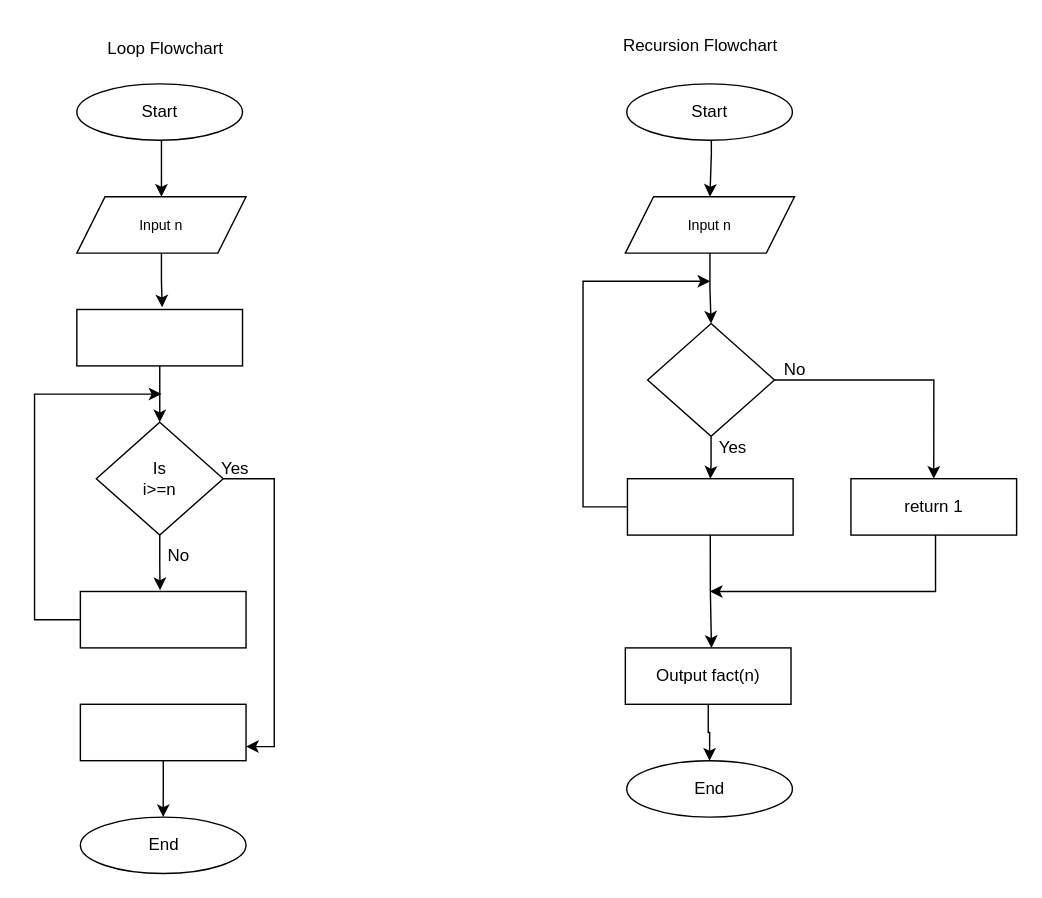
This 1042x898 diagram has some shape labels left out. Here are the shapes that lost their labels. From the top down, the box of each, then its label:
(75, 308, 243, 366): Set i=1, fact=1;
(646, 322, 775, 436): Is i>=1
(626, 477, 793, 535): return fact(n-1)*n
(79, 590, 246, 648): Set i++, fact=fact*i;
(79, 703, 246, 761): Output fact
